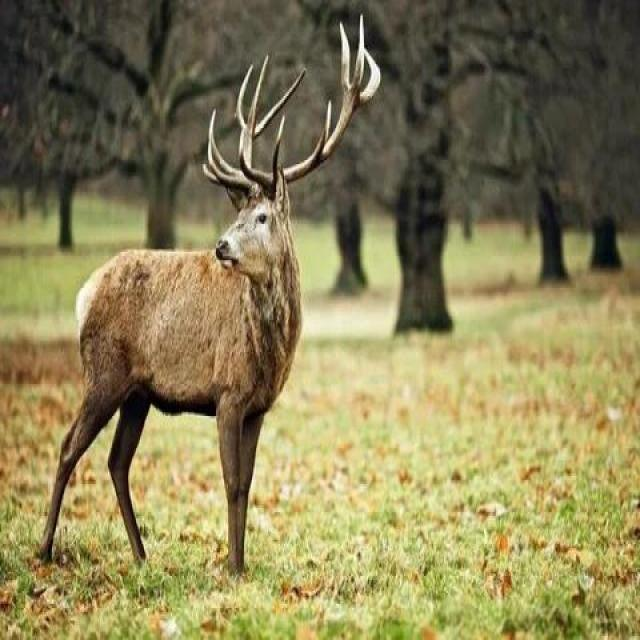deer: (63, 73, 414, 586)
